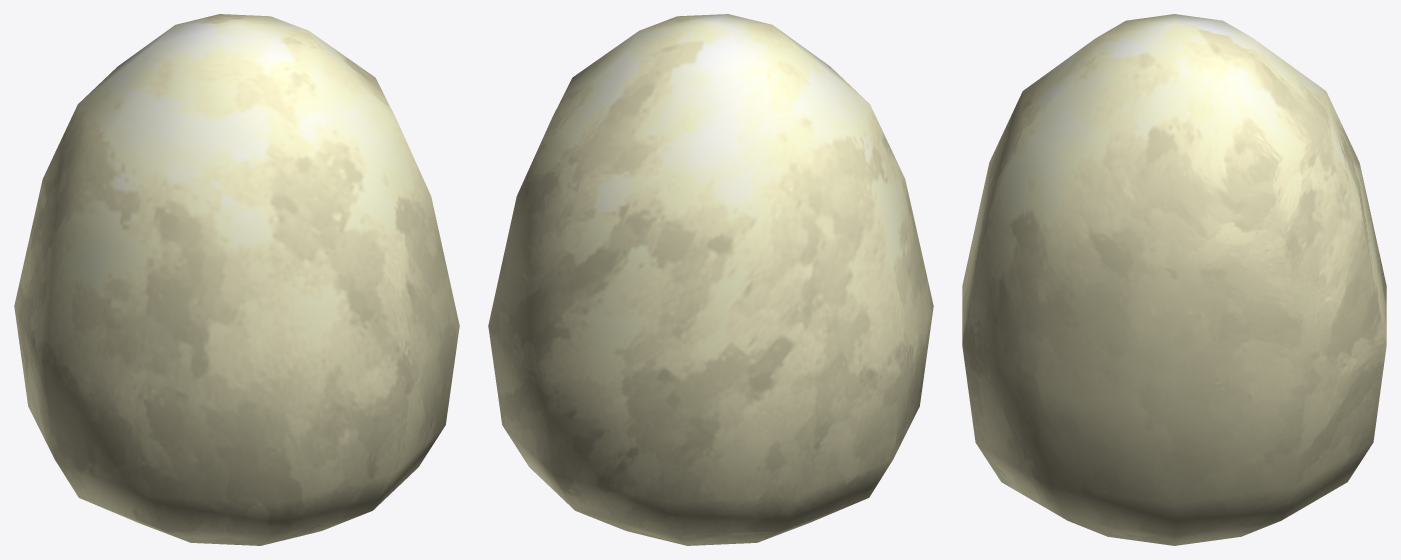
The model's file is smEgg.fbx.
3 renders of one model, left to right at view 1: azimuth 30°, elevation 25°; view 2: azimuth 150°, elevation 25°; view 3: azimuth 270°, elevation 25°, orthographic.
Parts seen in each view (by area): view 1: smEgg; view 2: smEgg; view 3: smEgg.
Boxes of the visible parts, x1,y1,x2,y2 form: smEgg: (14, 14, 459, 545); smEgg: (488, 14, 933, 545); smEgg: (962, 14, 1386, 545).
Bounding box in the file's own units: 41 × 50.35 × 38.99.
